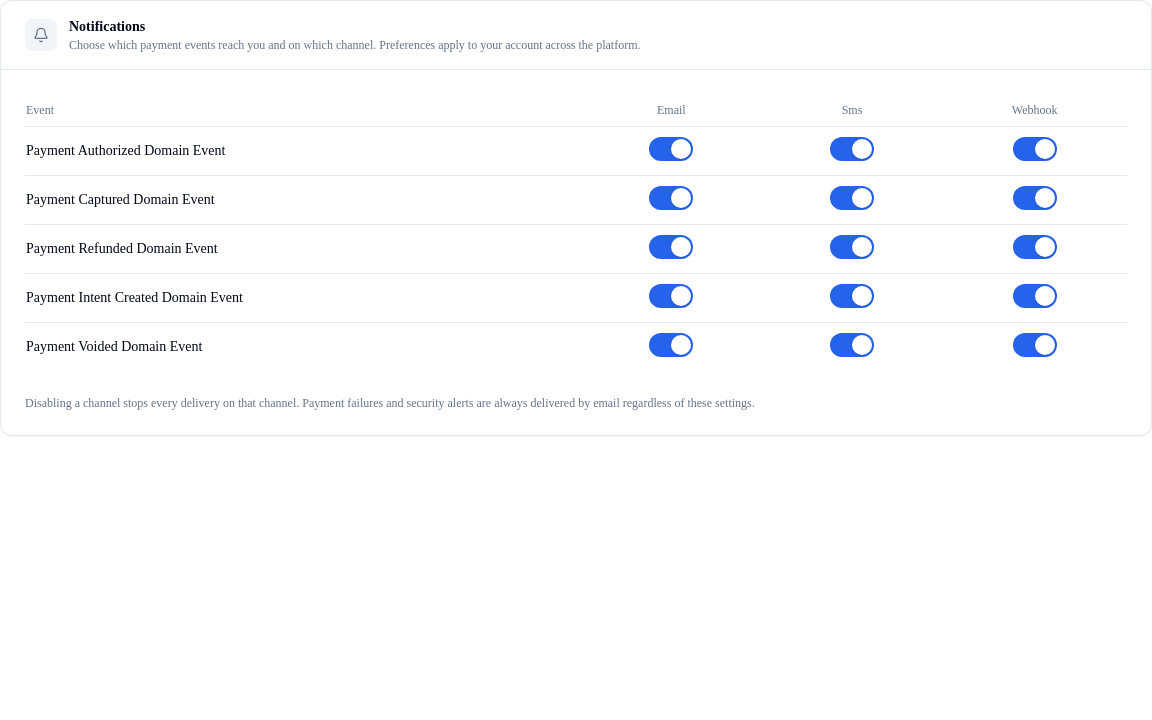
Test: NotificationPreferences › toggles a preference off via PUT and updates the UI
Click the switch named "Payment Authorized Domain Event via Email".
click(671, 149)  # box x1=649 y1=137 x2=693 y2=161
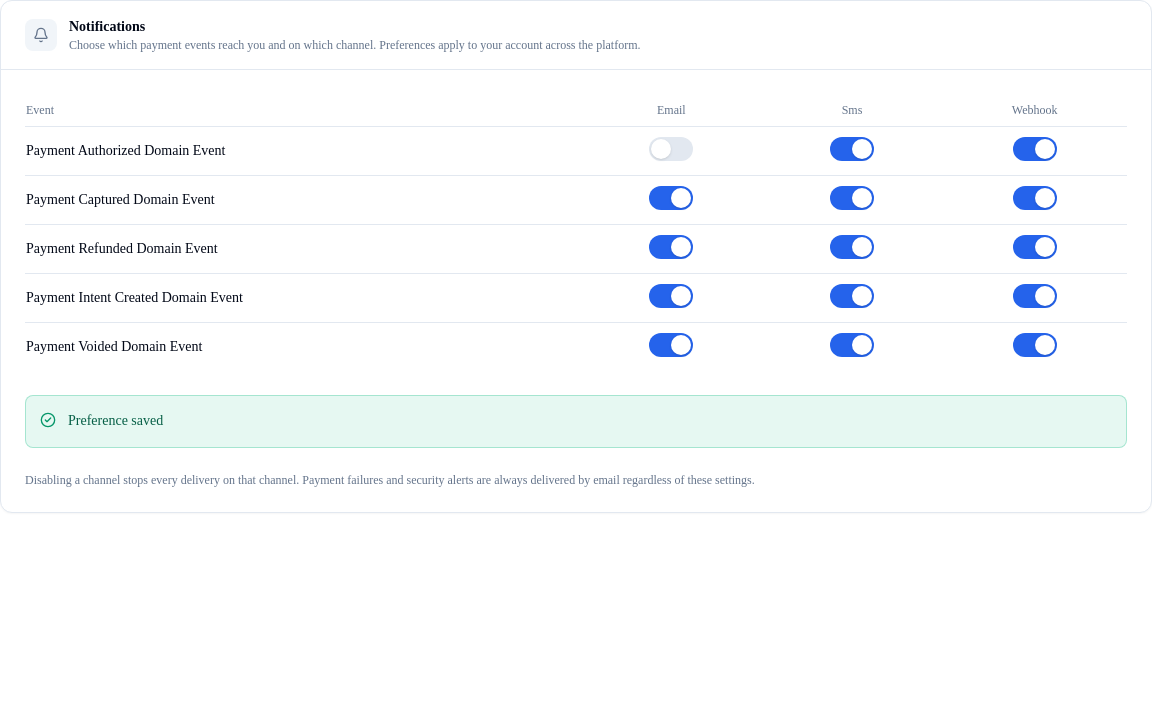
Now the text "Preference saved" is shown, box x1=68 y1=413 x2=163 y2=428
